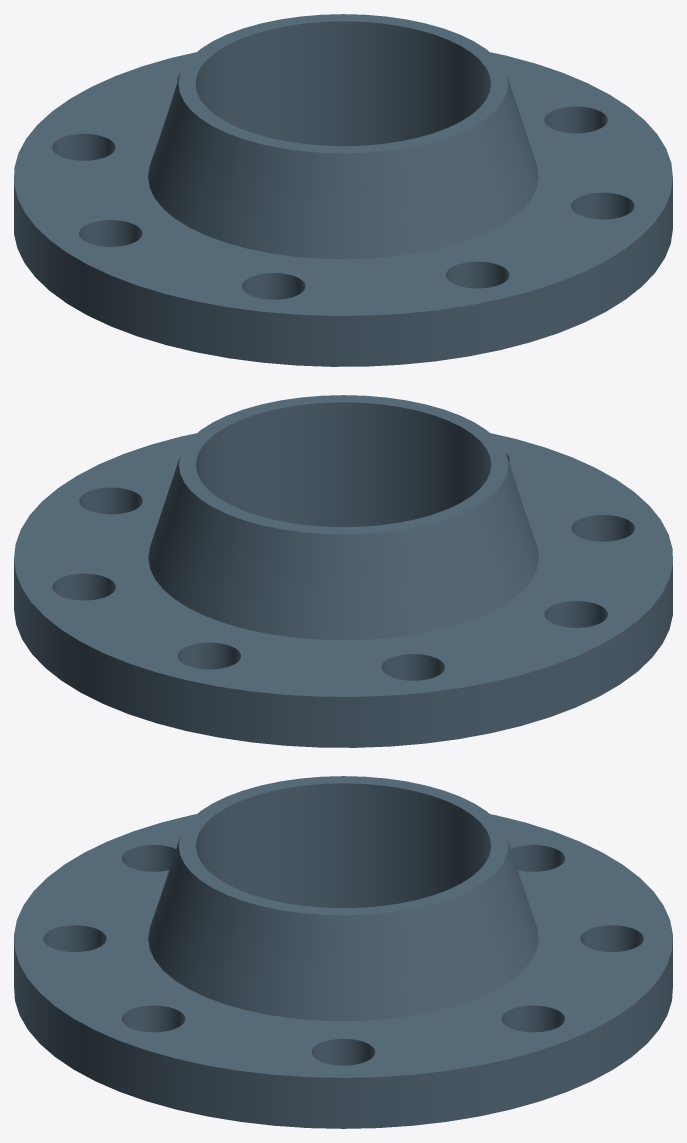
File: flanec-vorotnikovyj-DN125-PN25.glb
The picture shows the model from 3 angles, top to bottom: view 1: azimuth 30°, elevation 25°; view 2: azimuth 150°, elevation 25°; view 3: azimuth 270°, elevation 25°; orthographic projection.
Parts seen in each view (by area): view 1: Open CASCADE STEP translator 7.9 89; view 2: Open CASCADE STEP translator 7.9 89; view 3: Open CASCADE STEP translator 7.9 89.
Boxes of the visible parts, x1=… form: Open CASCADE STEP translator 7.9 89: x1=14, y1=14, x2=672, y2=366; Open CASCADE STEP translator 7.9 89: x1=14, y1=395, x2=672, y2=747; Open CASCADE STEP translator 7.9 89: x1=14, y1=776, x2=672, y2=1128.
Size of the model in its own units: 270 by 68 by 270.
